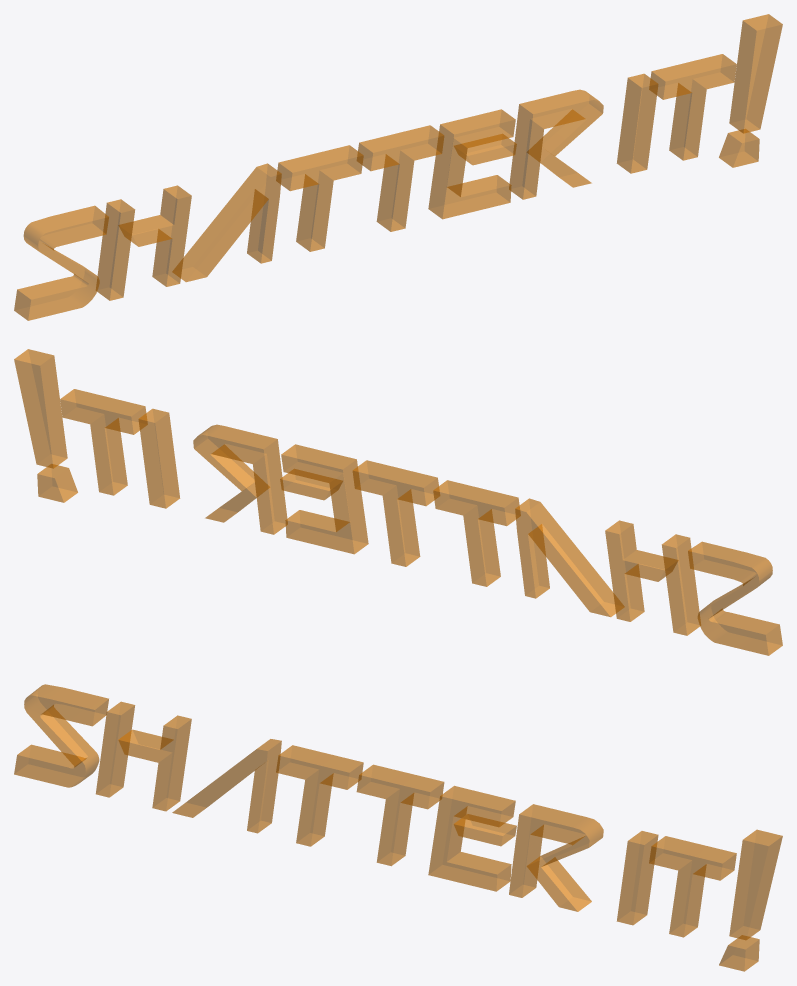
Rendered from title.fbx.
3 renders of one model, top to bottom at view 1: azimuth 30°, elevation 25°; view 2: azimuth 150°, elevation 25°; view 3: azimuth 330°, elevation 25°, orthographic.
Visible parts, largest first — view 1: exclamationmark2; view 2: exclamationmark2; view 3: exclamationmark2.
Boxes of the visible parts, x1=… form: exclamationmark2: x1=14, y1=14, x2=782, y2=320; exclamationmark2: x1=14, y1=349, x2=782, y2=655; exclamationmark2: x1=14, y1=684, x2=782, y2=971.
Bounding box in the file's own units: 30.85 × 5.13 × 1.02.
